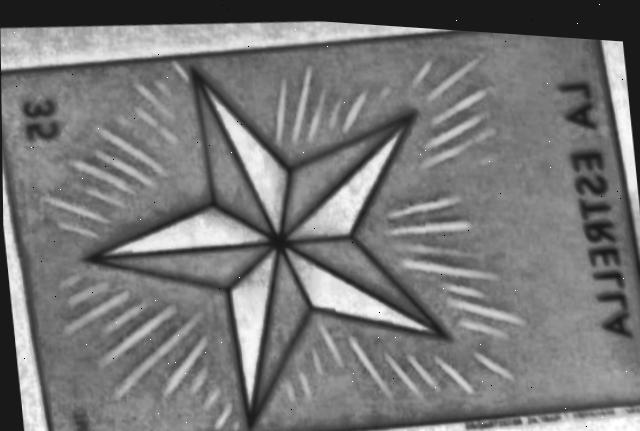La Estrella: (1, 24, 640, 431)
